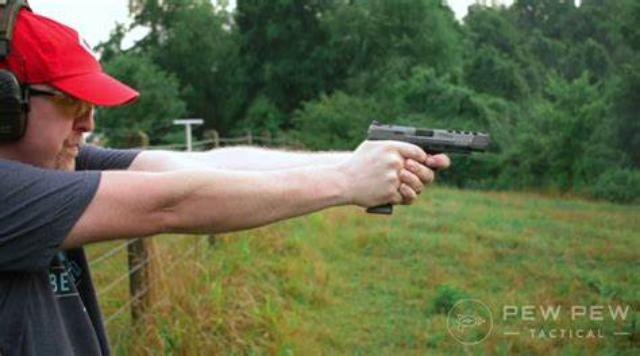handgun: (362, 118, 496, 218)
